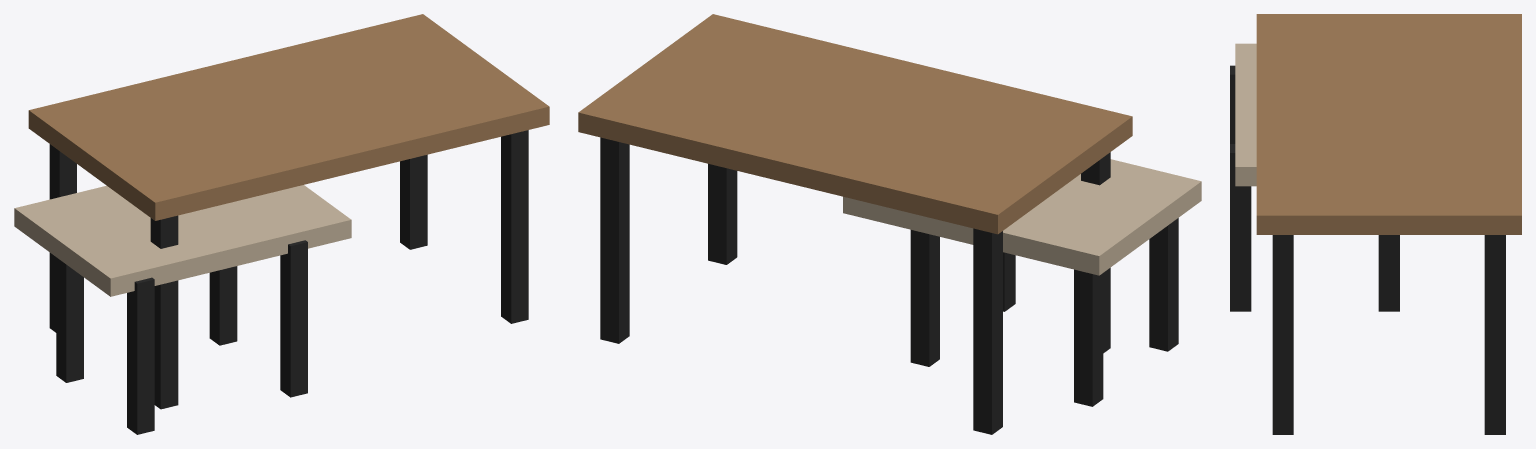
The model's file is coffee_nest.glb.
The picture shows the model from 3 angles, left to right: view 1: azimuth 30°, elevation 25°; view 2: azimuth 150°, elevation 25°; view 3: azimuth 270°, elevation 25°; orthographic projection. The views are drawn at different scales.
Parts seen in each view (by area): view 1: coffee_nest; view 2: coffee_nest; view 3: coffee_nest.
Boxes of the visible parts, bbox=[...] form: coffee_nest: bbox=[14, 14, 549, 434]; coffee_nest: bbox=[578, 14, 1201, 434]; coffee_nest: bbox=[1230, 14, 1521, 434].
Size of the model in its own units: 1.03 by 0.47 by 0.55.
